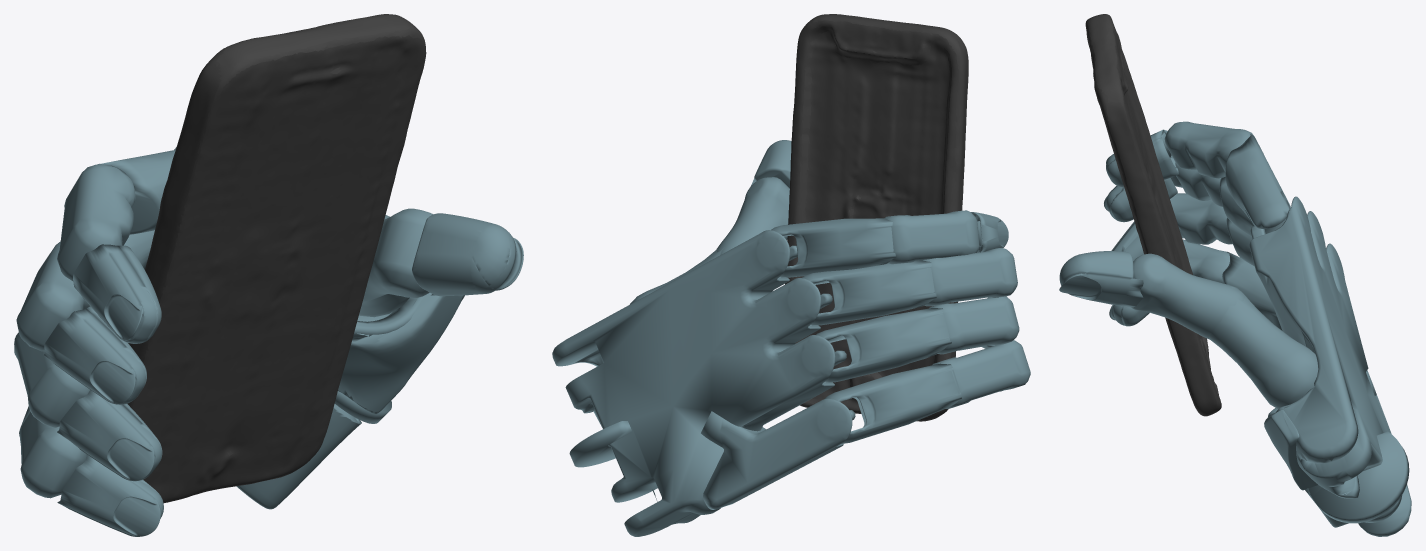
3 views of the same model, side by side, from view 1: azimuth 30°, elevation 25°; view 2: azimuth 150°, elevation 25°; view 3: azimuth 270°, elevation 25° (orthographic). The views are drawn at different scales.
Visible parts, largest first — view 1: world; view 2: world; view 3: world.
Boxes of the visible parts, x1,y1,x2,y2 form: world: (14, 14, 523, 536); world: (552, 14, 1030, 536); world: (1059, 14, 1411, 536).
Size of the model in its own units: 0.1694 by 0.1847 by 0.1331.
1 material, 1 textured.
